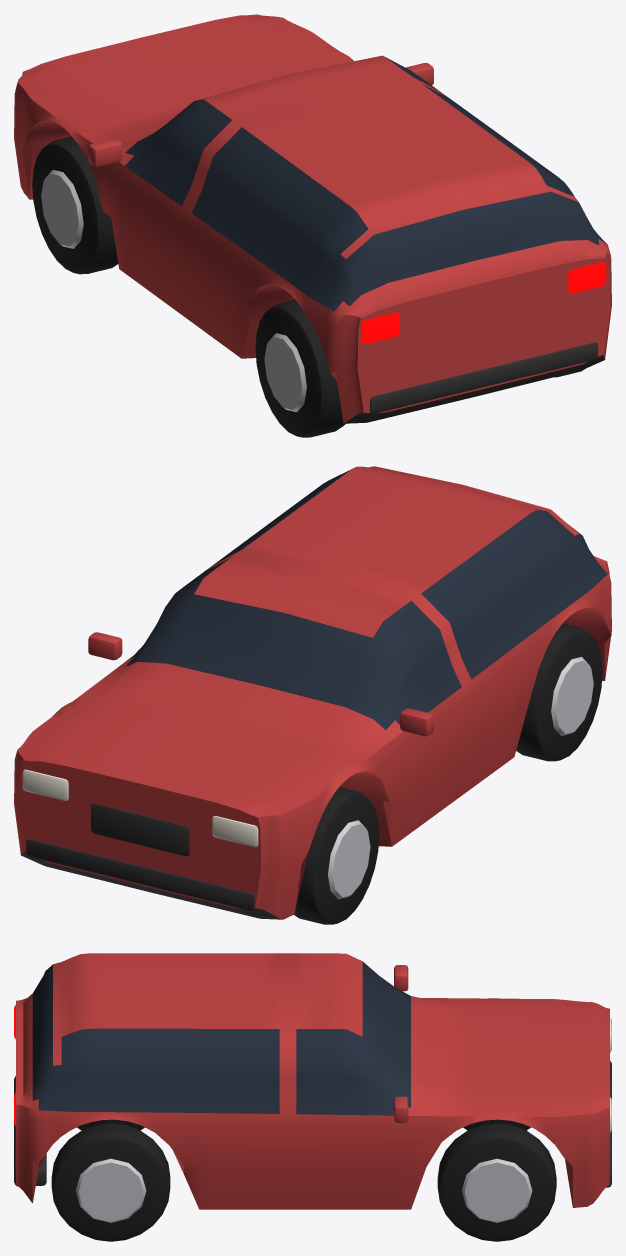
File: Kompakt.fbx
3 renders of one model, top to bottom at view 1: azimuth 30°, elevation 25°; view 2: azimuth 150°, elevation 25°; view 3: azimuth 270°, elevation 25°, orthographic. The views are drawn at different scales.
Parts seen in each view (by area): view 1: Kompakt_Body, Kompakt_Glass, Kompakt_Tire, Kompakt_Trim, Kompakt_Rim, Kompakt_Taillight; view 2: Kompakt_Body, Kompakt_Glass, Kompakt_Tire, Kompakt_Trim, Kompakt_Rim, Kompakt_Headlight; view 3: Kompakt_Body, Kompakt_Glass, Kompakt_Tire, Kompakt_Rim, Kompakt_Trim.
Part boxes in pixels (x1,y1,x2,y2): Kompakt_Body: (14, 14, 611, 423); Kompakt_Glass: (125, 56, 607, 311); Kompakt_Tire: (32, 136, 584, 437); Kompakt_Trim: (344, 342, 604, 423); Kompakt_Rim: (41, 169, 306, 412); Kompakt_Taillight: (361, 262, 606, 343); Kompakt_Body: (14, 466, 611, 919); Kompakt_Glass: (126, 467, 607, 729); Kompakt_Tire: (294, 623, 602, 924); Kompakt_Trim: (21, 803, 282, 919); Kompakt_Rim: (328, 657, 593, 899); Kompakt_Headlight: (22, 769, 258, 847); Kompakt_Body: (16, 953, 609, 1209); Kompakt_Glass: (32, 961, 410, 1115); Kompakt_Tire: (51, 1119, 556, 1241); Kompakt_Rim: (75, 1158, 532, 1222); Kompakt_Trim: (14, 1061, 611, 1187).
Size of the model in its own units: 8.3 by 5.3 by 14.6.
